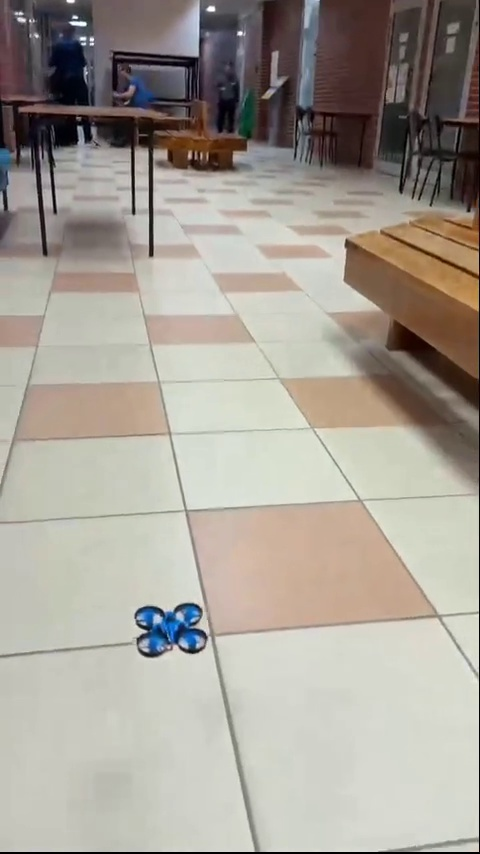drone: (134, 602, 206, 659)
no vest: (50, 21, 98, 141), (206, 54, 242, 130), (113, 60, 152, 114)
